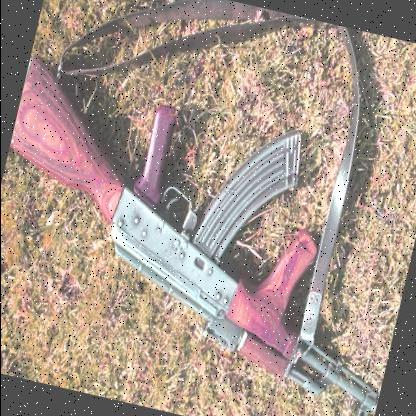rifle: (0, 45, 416, 416)
